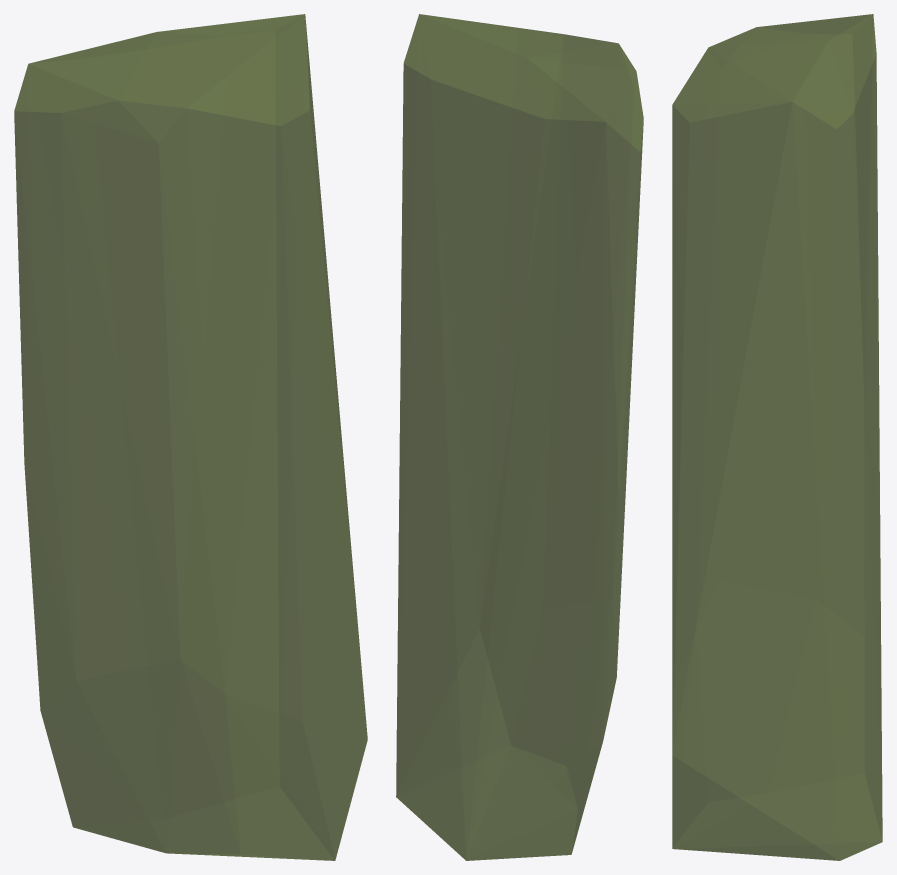
3 renders of one model, left to right at view 1: azimuth 30°, elevation 25°; view 2: azimuth 150°, elevation 25°; view 3: azimuth 270°, elevation 25°, orthographic. The views are drawn at different scales.
Visible parts, largest first — view 1: Shape_IndexedFaceSet.020_Shape_IndexedFaceSet.7506; view 2: Shape_IndexedFaceSet.020_Shape_IndexedFaceSet.7506; view 3: Shape_IndexedFaceSet.020_Shape_IndexedFaceSet.7506.
Part boxes in pixels (x1=…): Shape_IndexedFaceSet.020_Shape_IndexedFaceSet.7506: x1=14, y1=14, x2=367, y2=860; Shape_IndexedFaceSet.020_Shape_IndexedFaceSet.7506: x1=396, y1=14, x2=643, y2=860; Shape_IndexedFaceSet.020_Shape_IndexedFaceSet.7506: x1=672, y1=14, x2=882, y2=860.
Bounding box in the file's own units: 0.1773 × 0.5324 × 0.1293.
